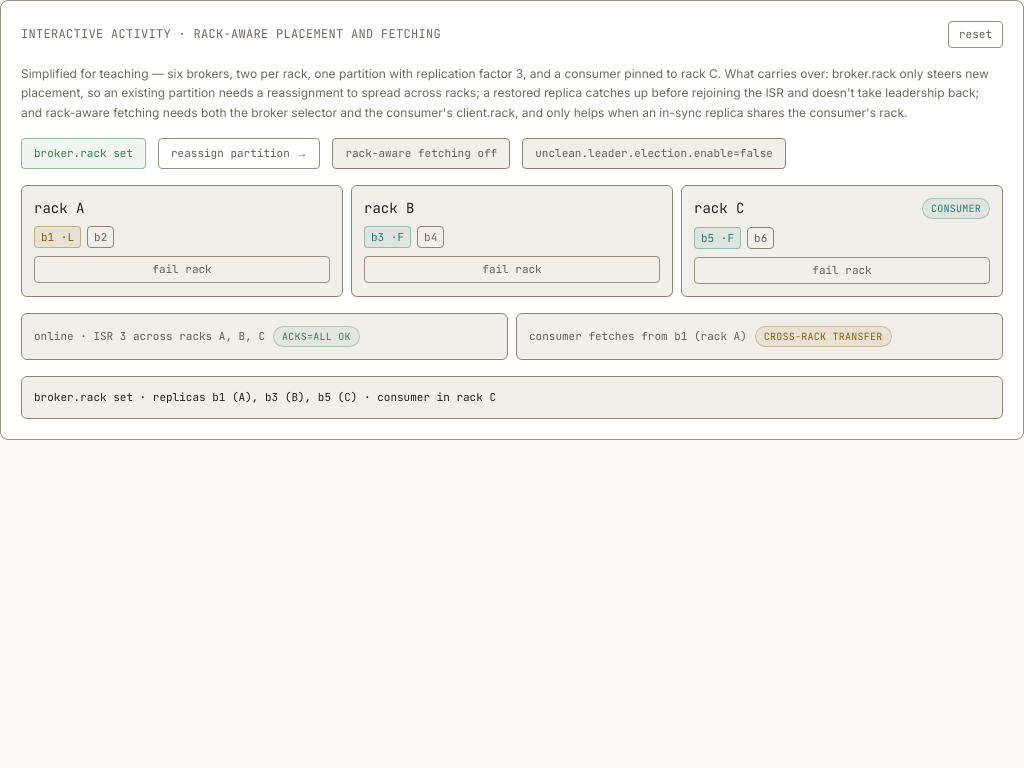
Test: RackPlacementDemo › unclean.leader.election.enable lets a stale replica lead, with a data-loss badge
Click the button "fail rack" below "·L": (182, 269) [34,256,330,282]
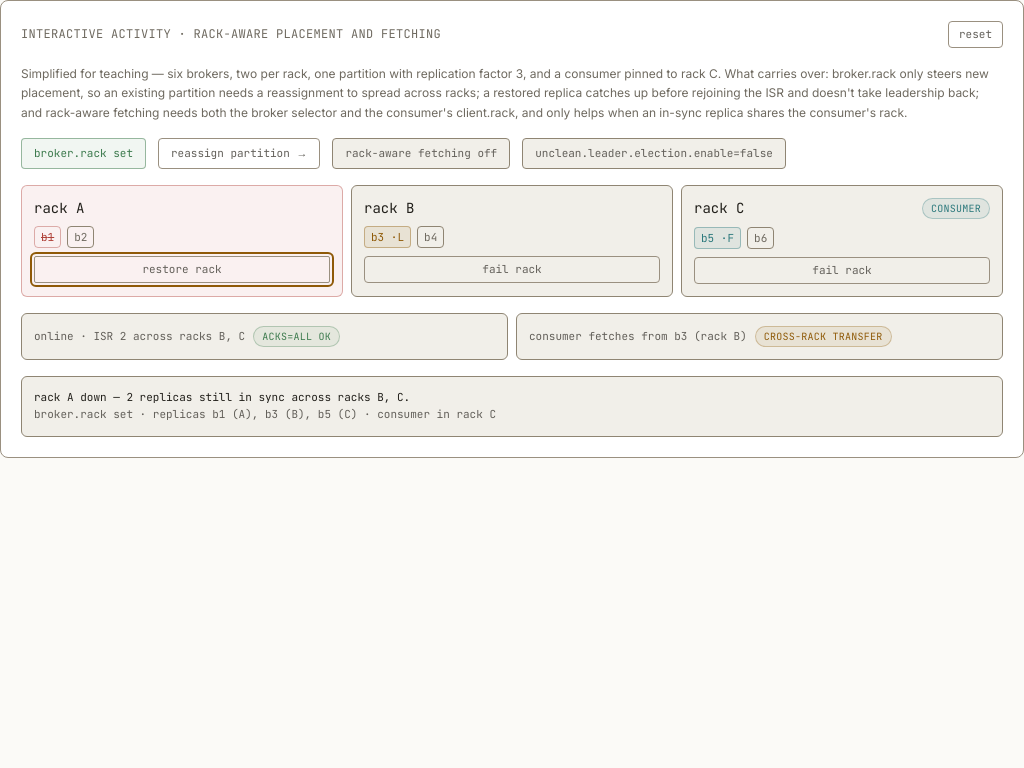
Click the button "fail rack" below "·L": (512, 269) [364,256,660,282]
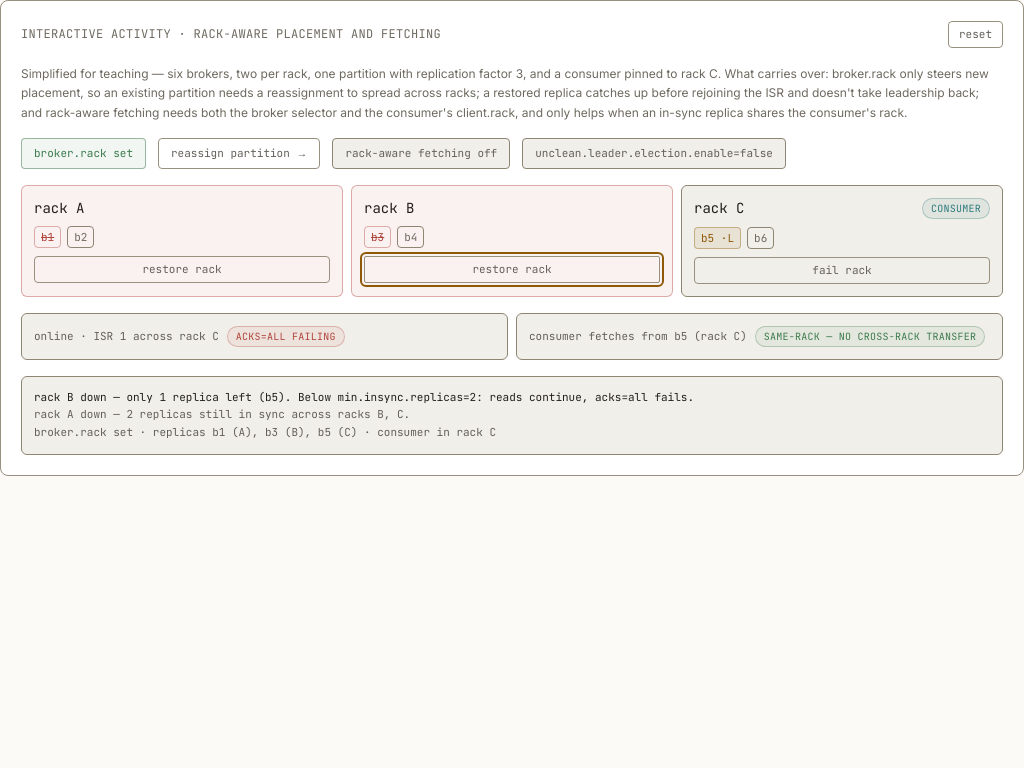
Click the button "fail rack": (842, 270) [694,257,990,284]
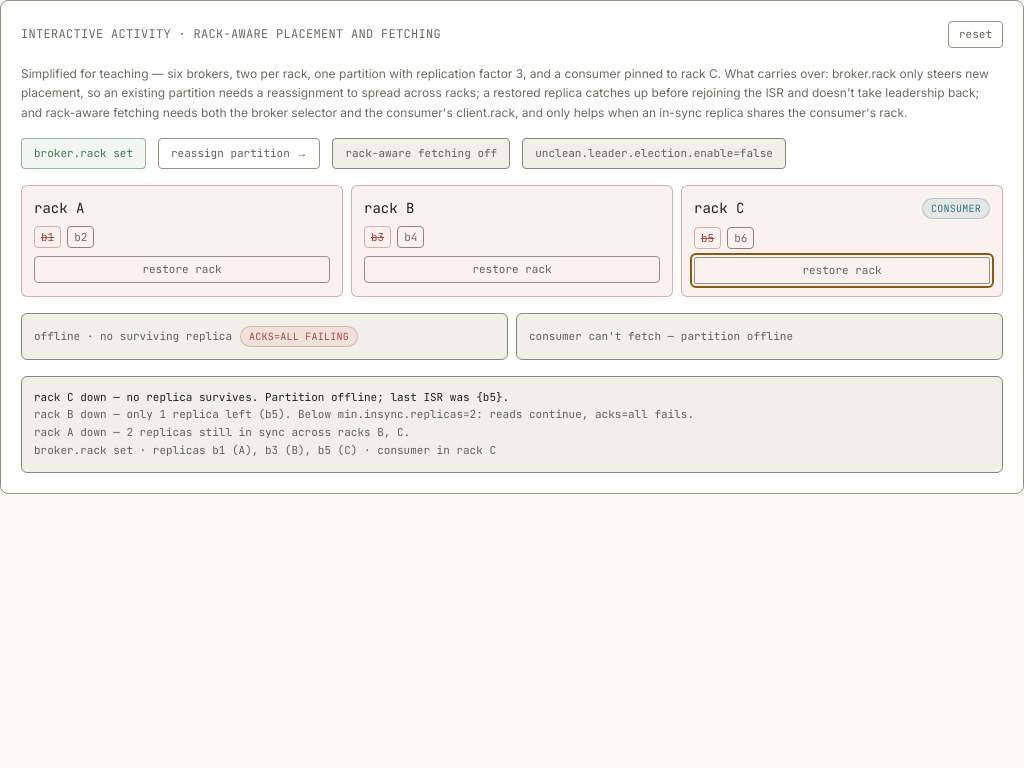
Click the button "unclean.leader.election.enable=false": (654, 153) [522,138,786,168]
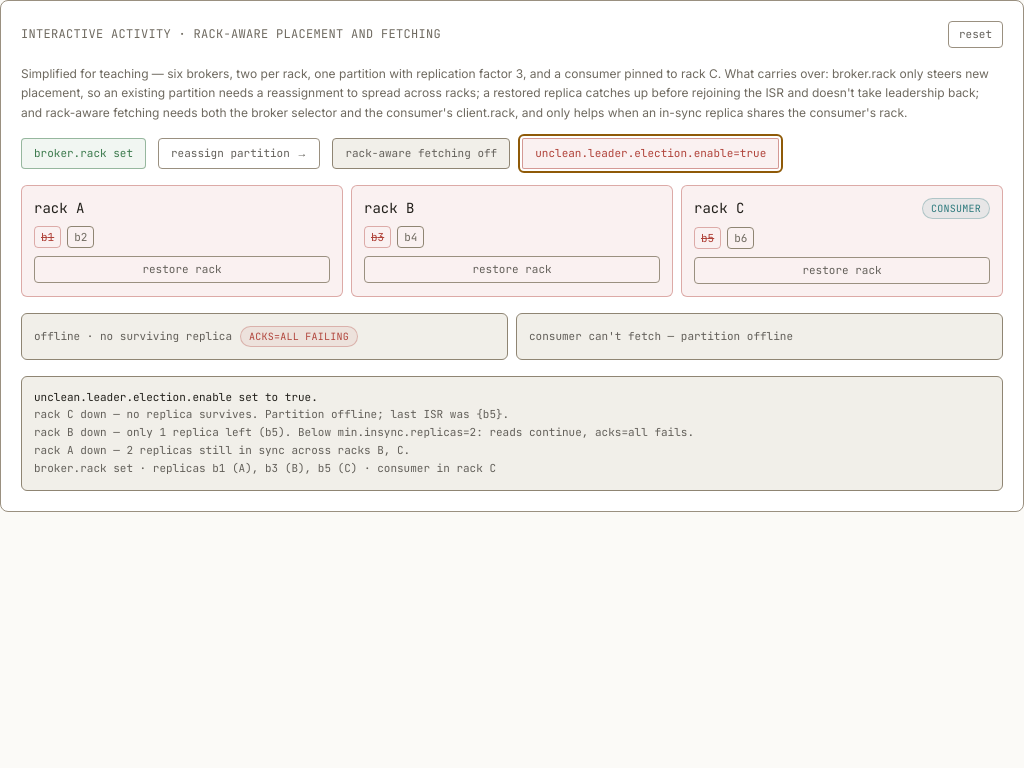
Click the 1st button "restore rack": (182, 269) [34,256,330,282]
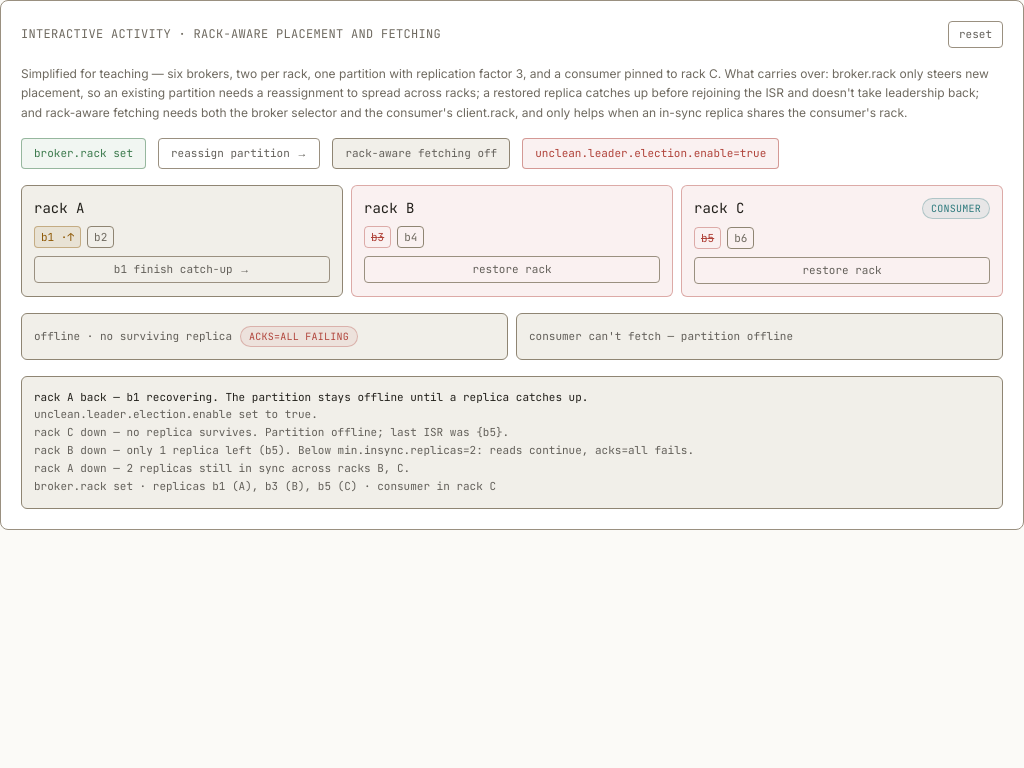
Click the button "b1 finish catch-up →": (182, 269) [34,256,330,282]
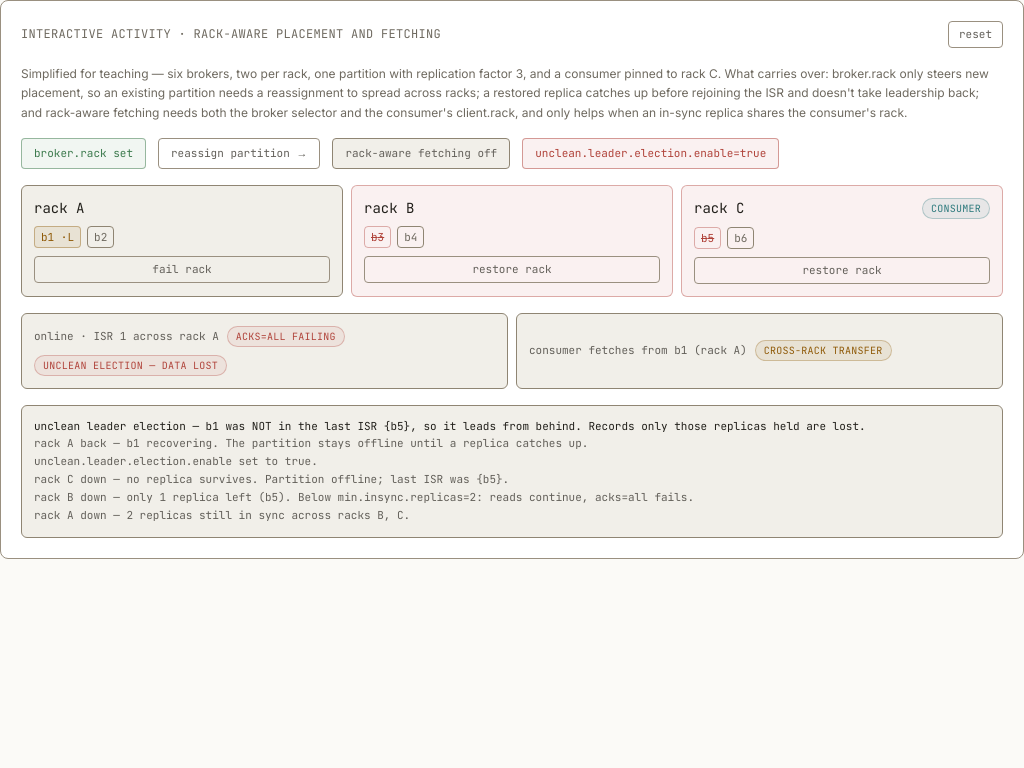
Check: the text with test id "partition-status" shows "online · ISR", box [34,329,219,343]
Check: the text "unclean election — data lost" is shown, box [34,354,227,376]
Check: the text "leads from behind. Records only those replicas held are lost" is shown, box [34,418,866,432]
